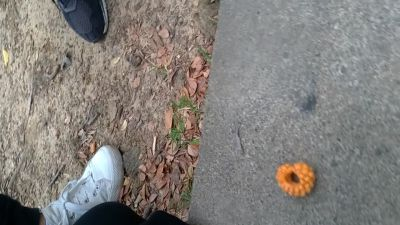eggs: (275, 162, 317, 198)
